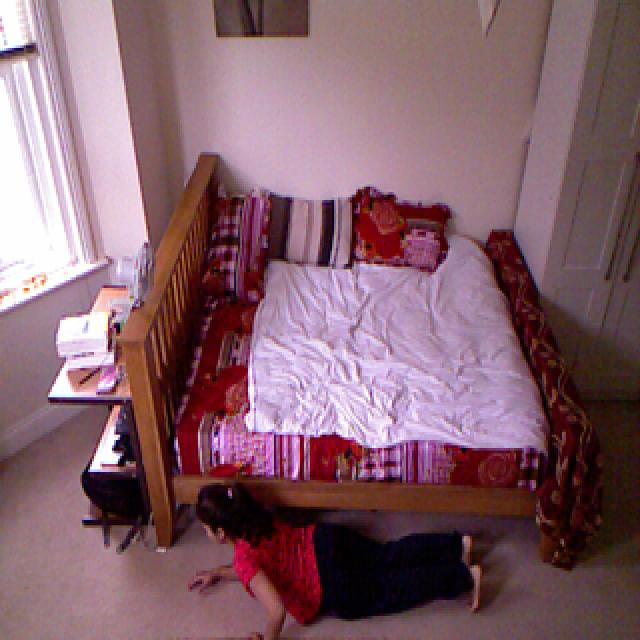lying: (182, 477, 486, 640)
